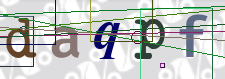a: (48, 21, 84, 62)
d: (3, 13, 39, 62)
f: (176, 12, 210, 60)
p: (132, 15, 168, 62)
q: (90, 20, 123, 63)
